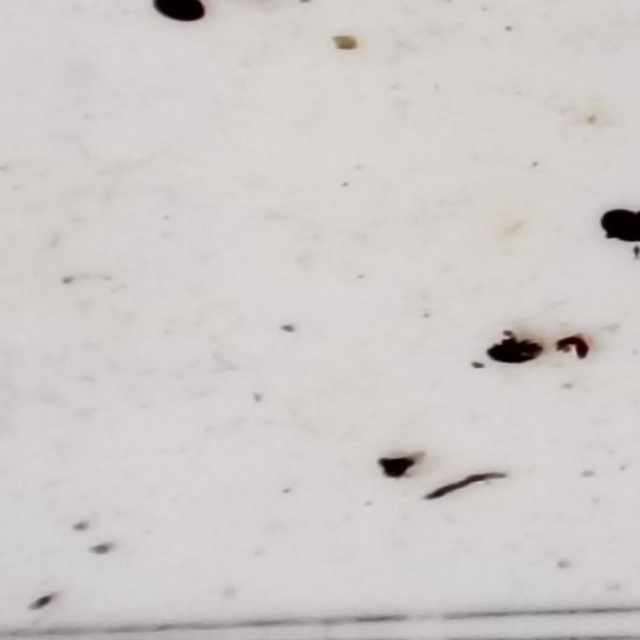varroa: (484, 338, 545, 368), (599, 207, 636, 246)
